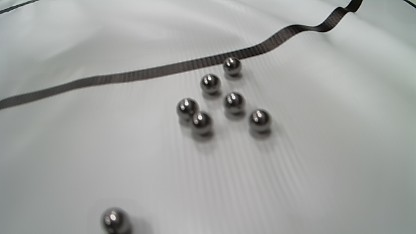ironball: (101, 207, 131, 234), (248, 109, 271, 132), (177, 98, 199, 122), (190, 111, 212, 135), (223, 91, 245, 114), (200, 73, 221, 94), (222, 56, 242, 76)
